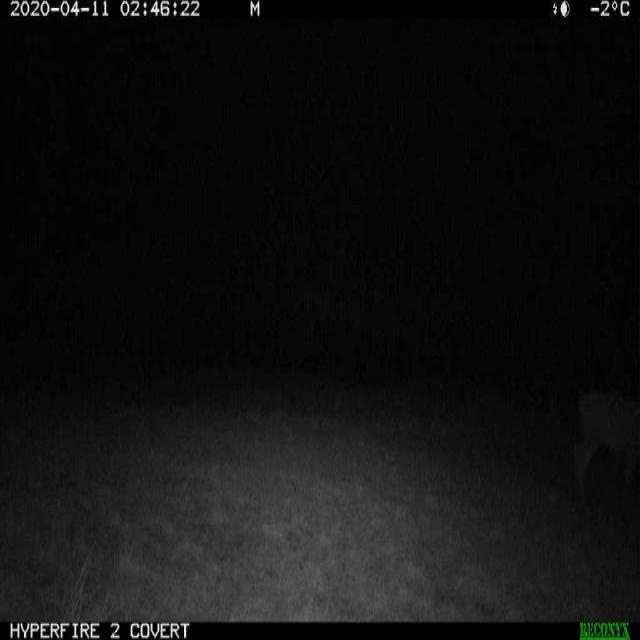deer: (564, 377, 640, 515)
